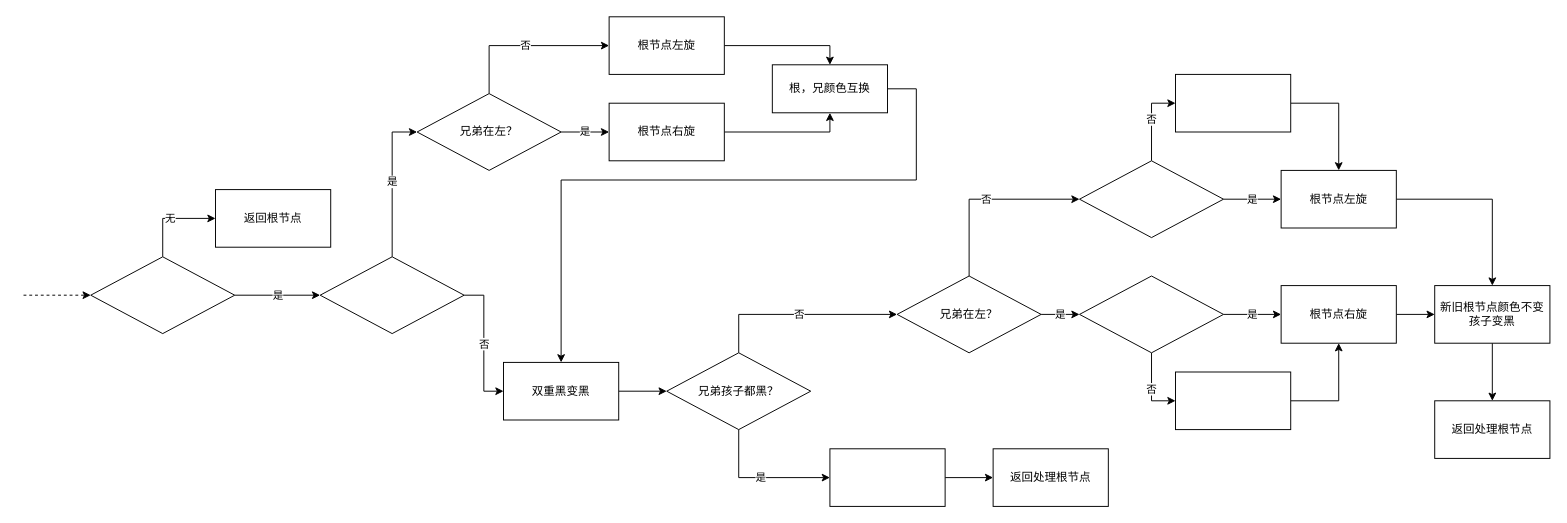
Image size: 1567x523. Some labels were removed from this diagram. Here are the shapes that lost their labels. From the top down, the centre of each, then its label:
(x=1233, y=102): 兄弟结点右旋
(x=1151, y=199): 红孩子在右？
(x=162, y=295): 有无双黑？
(x=391, y=295): 兄弟为红？
(x=1151, y=314): 红孩子在左？
(x=1233, y=400): 兄弟结点左旋
(x=887, y=477): 兄弟颜色给根节点
